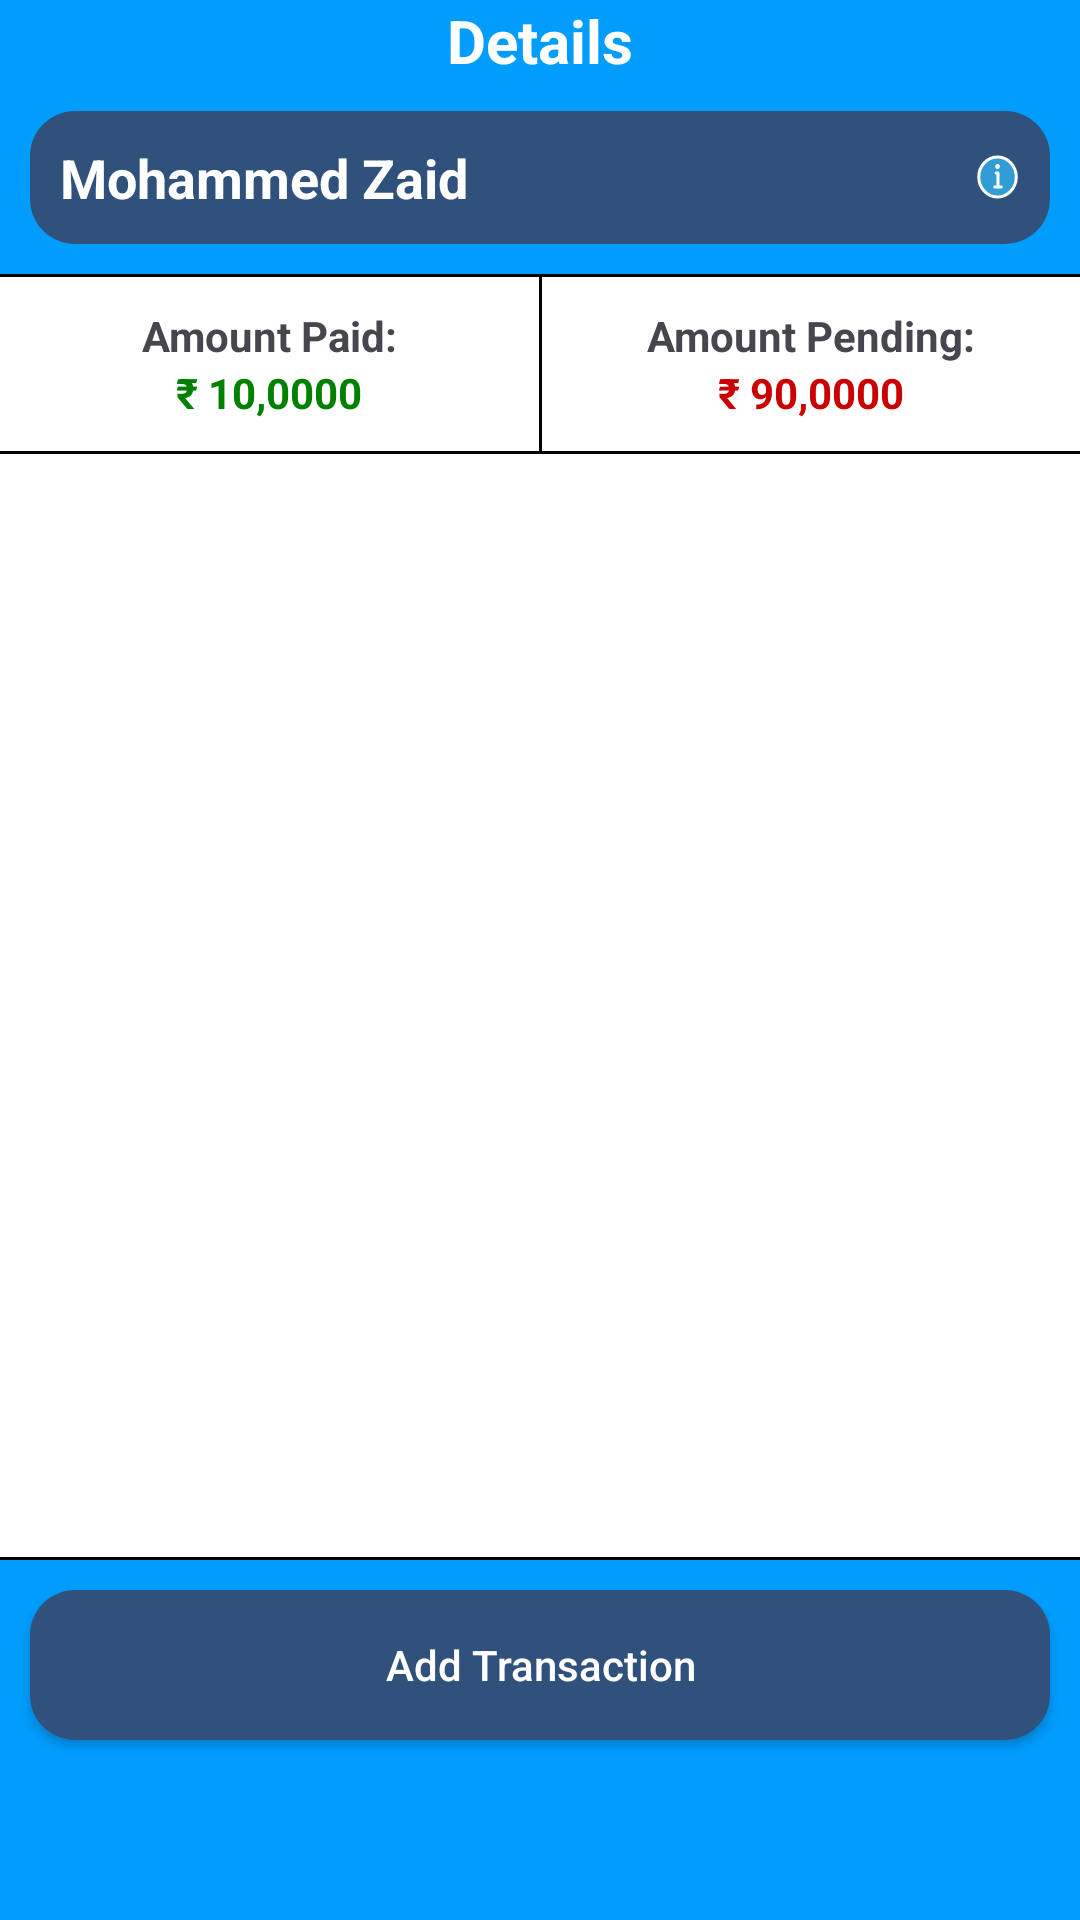

Icons on this 1080 x 1920 Android screen, each with the point to tap as point (x, y):
Information: point (997, 177)
